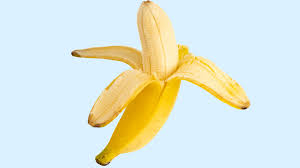banana: (71, 1, 251, 168)
